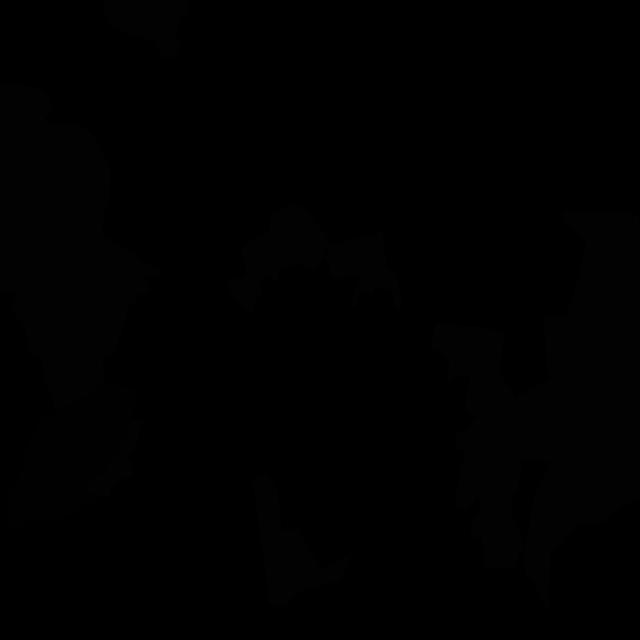cardboard: (524, 346, 640, 609), (10, 234, 162, 412), (0, 84, 111, 294), (543, 208, 640, 379), (454, 372, 524, 570), (252, 473, 354, 608), (510, 352, 616, 462), (239, 204, 330, 284), (326, 231, 402, 310), (102, 0, 188, 58), (429, 324, 505, 383), (86, 449, 133, 499), (228, 277, 262, 314), (118, 419, 147, 456)
rigid_plastic: (7, 385, 138, 529)
